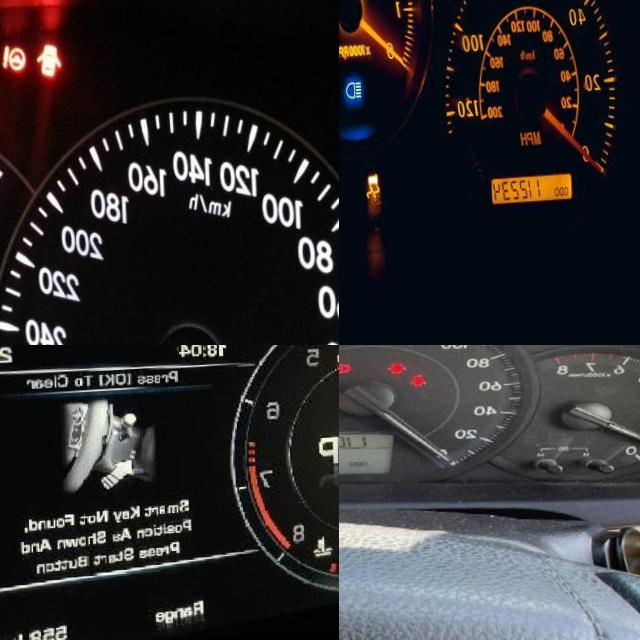Electronic Power Steering: (2, 46, 25, 75)
Engine cooling system: (308, 541, 331, 568)
Seat Belt: (408, 378, 424, 392)
